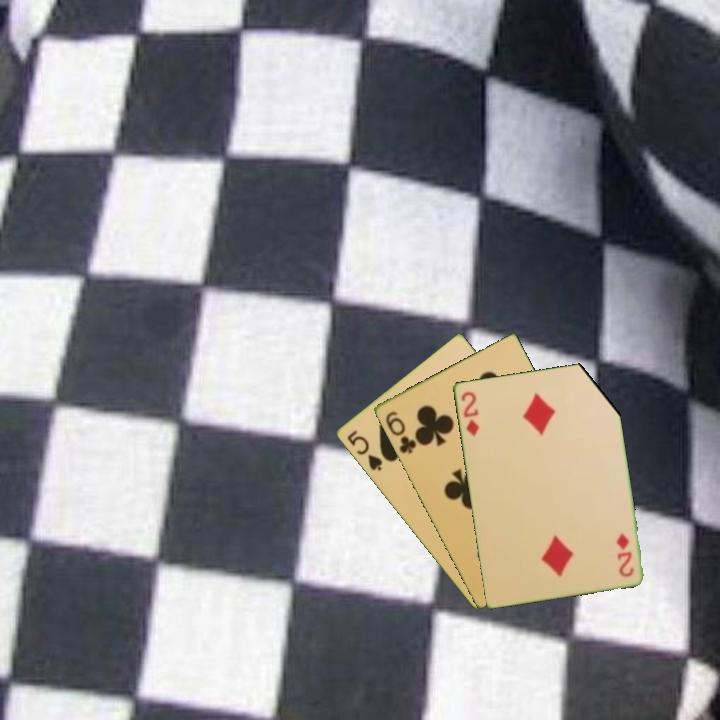2d: (457, 387, 481, 439), (612, 529, 636, 580)
5s: (343, 427, 385, 474)
6c: (382, 407, 419, 457)
